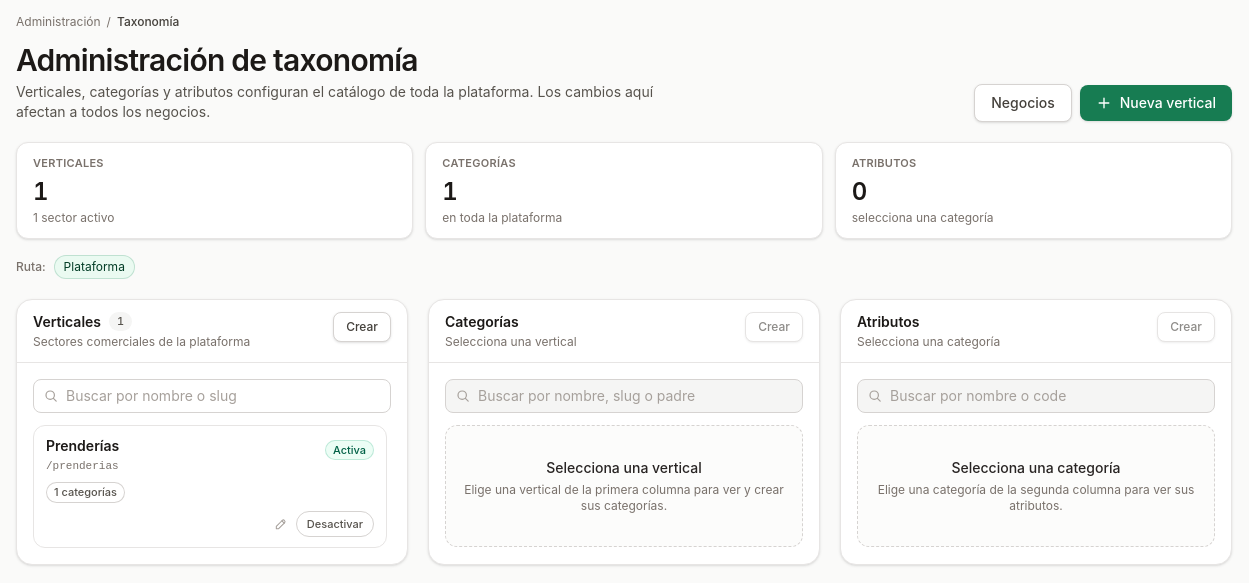
Test case: Panel de taxonomía (UI) › filtra la lista de verticales y muestra el estado vacío de búsqueda
Expected: the heading "Administración de taxonomía" is shown, x1=16 y1=42 x2=418 y2=78
Expected: the text "Prenderías" is shown, x1=46 y1=436 x2=119 y2=456
Type "joyerías" into the search field named "buscar verticales" at (212, 396), box x1=33 y1=378 x2=391 y2=412
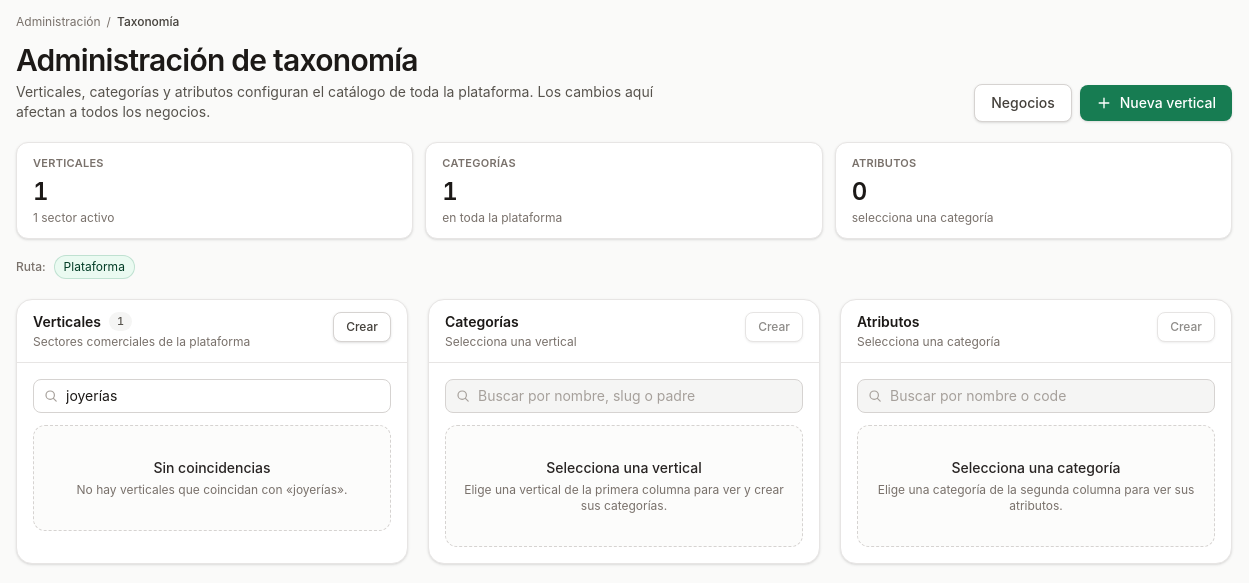
Expected: the text "Sin coincidencias" is shown, x1=153 y1=458 x2=271 y2=476
